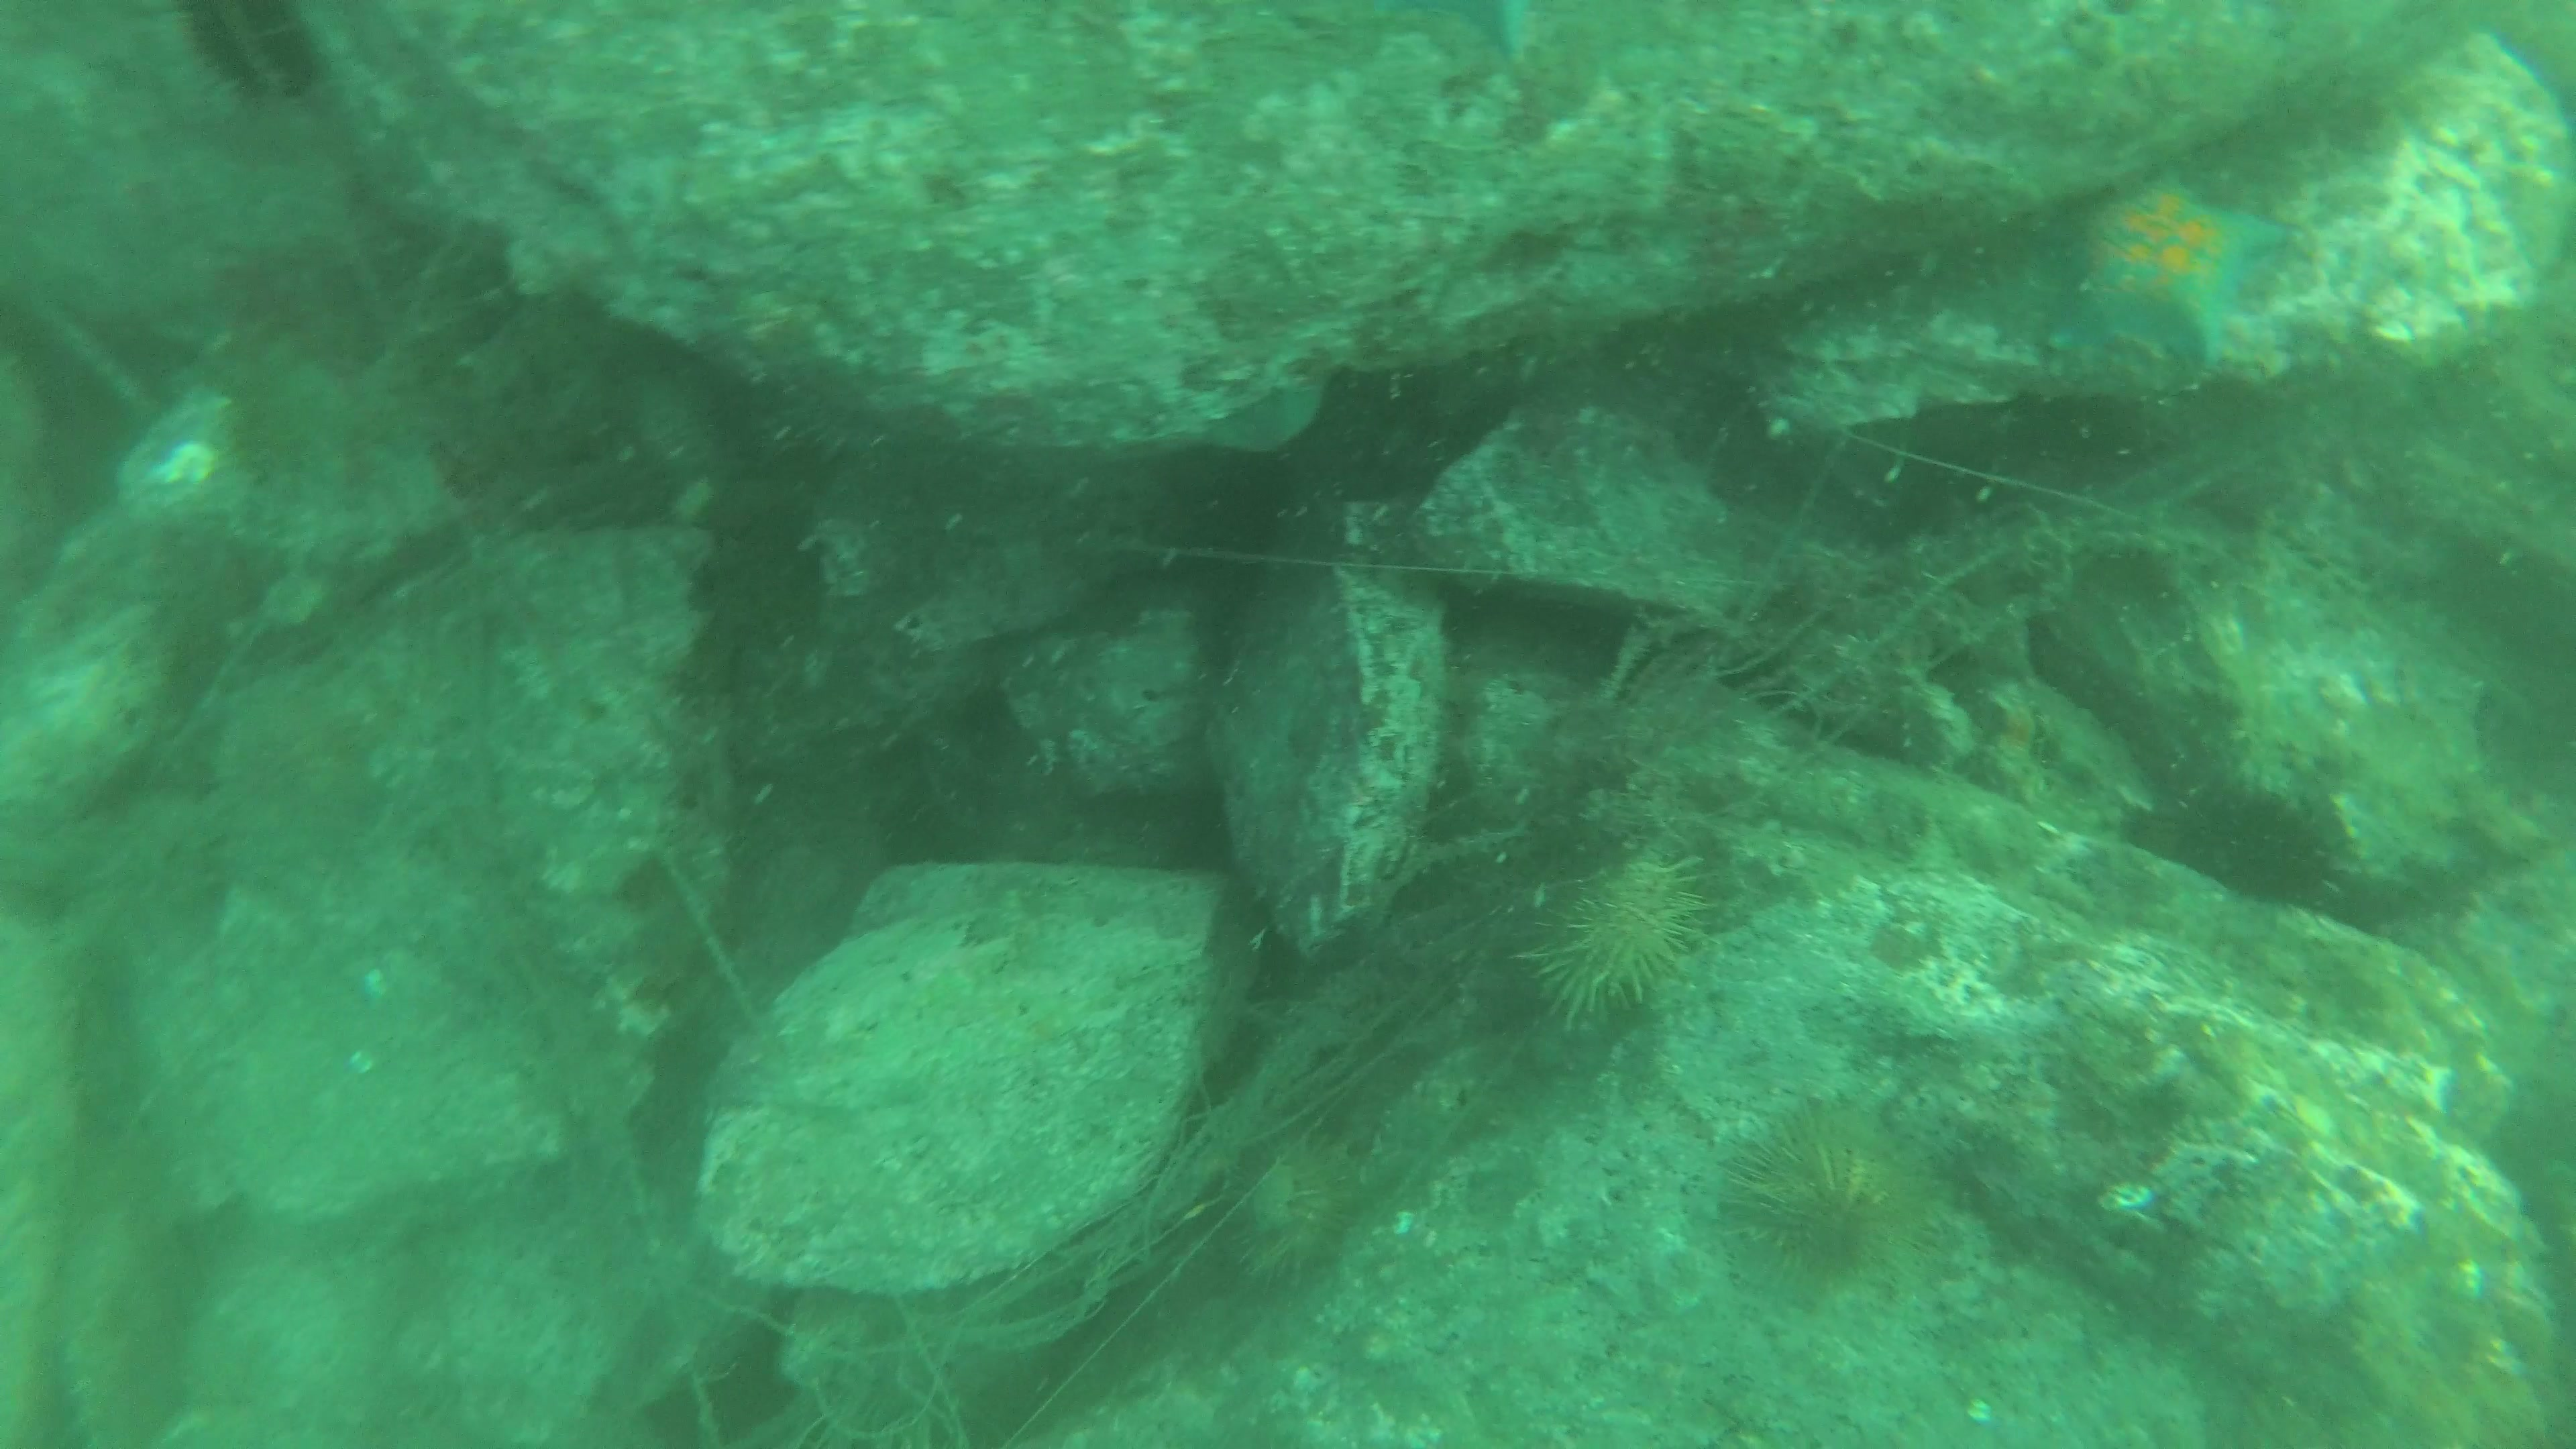echinus: (1693, 1104, 1943, 1304), (1178, 1109, 1371, 1322), (1513, 856, 1713, 1044), (175, 0, 322, 122)
starfish: (2052, 166, 2296, 387)
